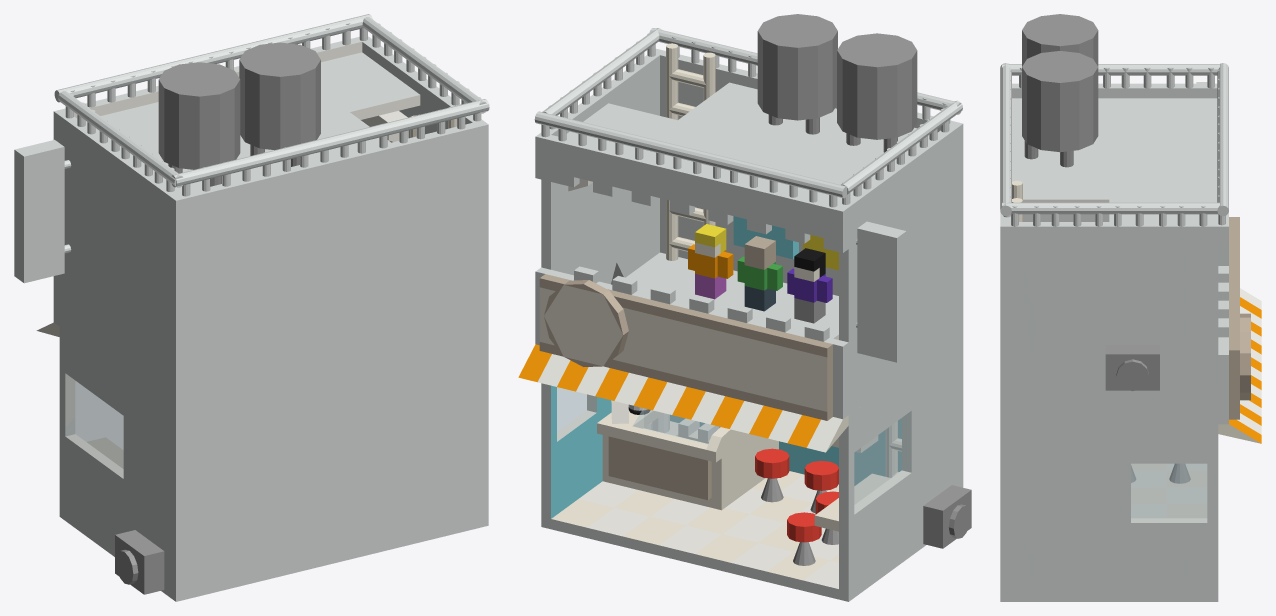
File: shop01-metric.glb
The picture shows the model from 3 angles, left to right: view 1: azimuth 30°, elevation 25°; view 2: azimuth 150°, elevation 25°; view 3: azimuth 270°, elevation 25°; orthographic projection. The views are drawn at different scales.
Visible parts, largest first — view 1: shop01 complete metric source; view 2: shop01 complete metric source; view 3: shop01 complete metric source.
Part boxes in pixels (x1,y1,x2,y2): shop01 complete metric source: (14, 14, 489, 601); shop01 complete metric source: (518, 14, 971, 601); shop01 complete metric source: (1000, 14, 1261, 601).
Size of the model in its own units: 7.8 by 9.4 by 4.9.
